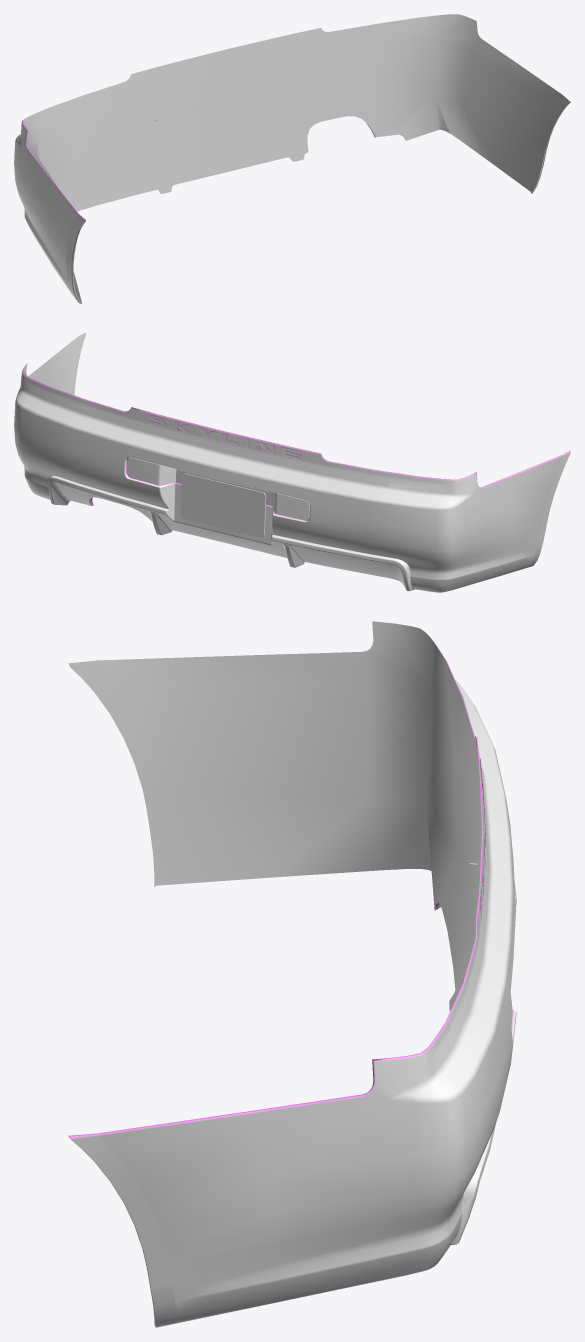
Rendered from Car_Nissan_SkylineGTRVspecR34_1999_BumperR_SetA.fbx.
3 renders of one model, top to bottom at view 1: azimuth 30°, elevation 25°; view 2: azimuth 150°, elevation 25°; view 3: azimuth 270°, elevation 25°, orthographic. The views are drawn at different scales.
Parts seen in each view (by area): view 1: BumperR 6; view 2: BumperR 6; view 3: BumperR 6.
Boxes of the visible parts, left/top/right/bottom form: BumperR 6: left=14, top=14, right=570, bottom=303; BumperR 6: left=14, top=332, right=570, bottom=592; BumperR 6: left=68, top=621, right=516, bottom=1327.
Size of the model in its own units: 1.78 by 0.4853 by 0.7086.
